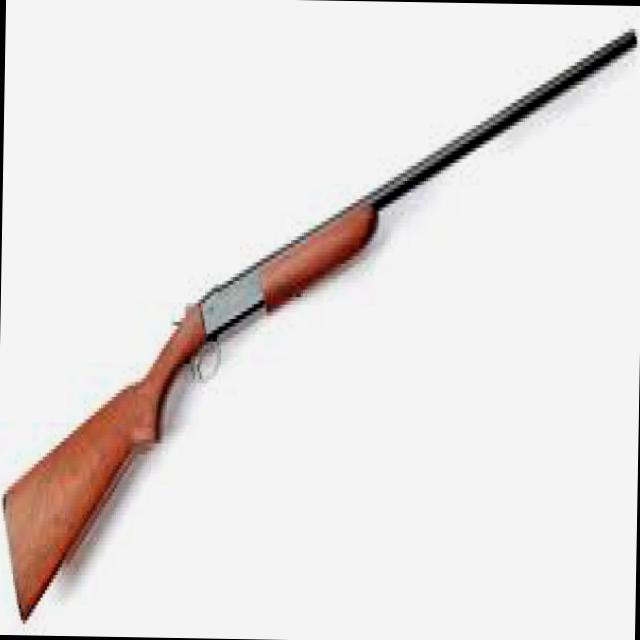long weapon: (0, 13, 635, 634)
